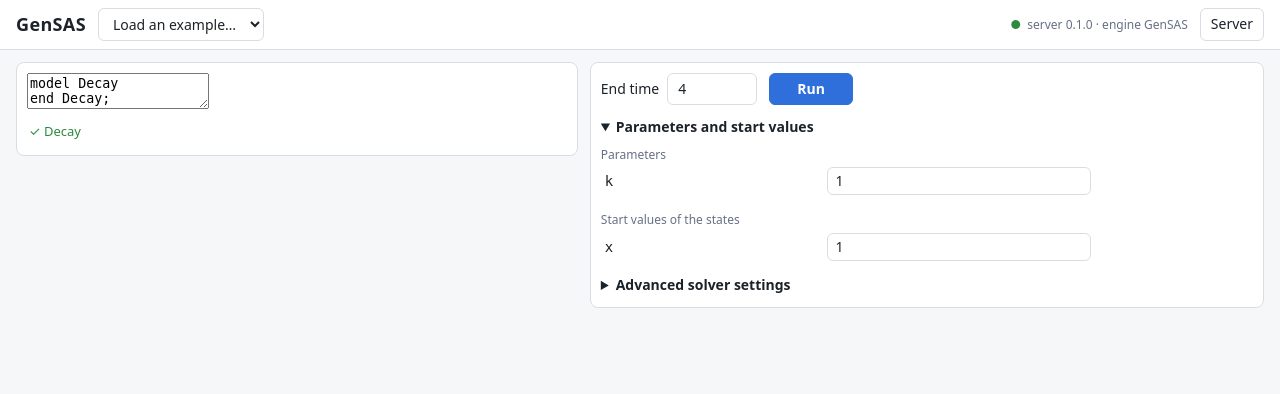
App › cancels a running run
Click the button "Run".
click(811, 89)  # box [769,73,853,105]
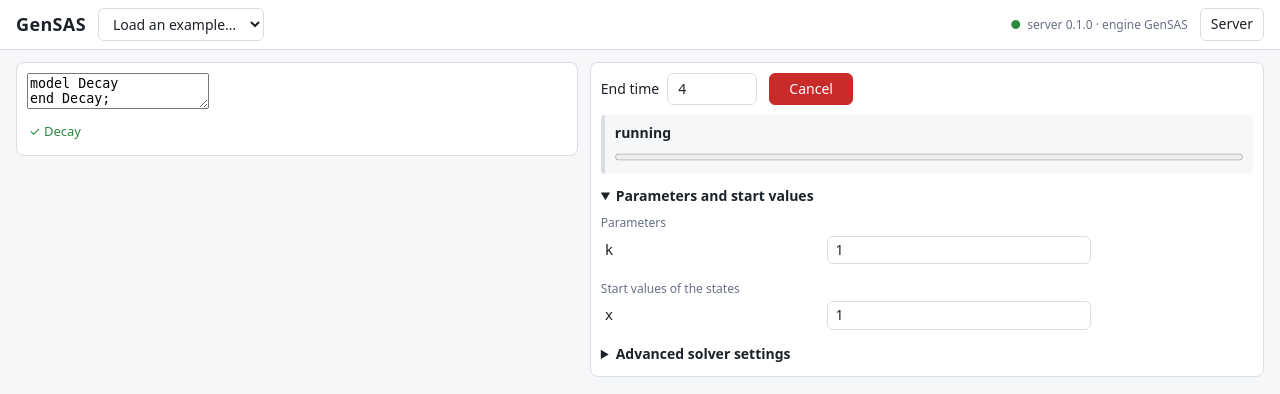
Click the button "Cancel".
click(811, 89)  # box [769,73,853,105]
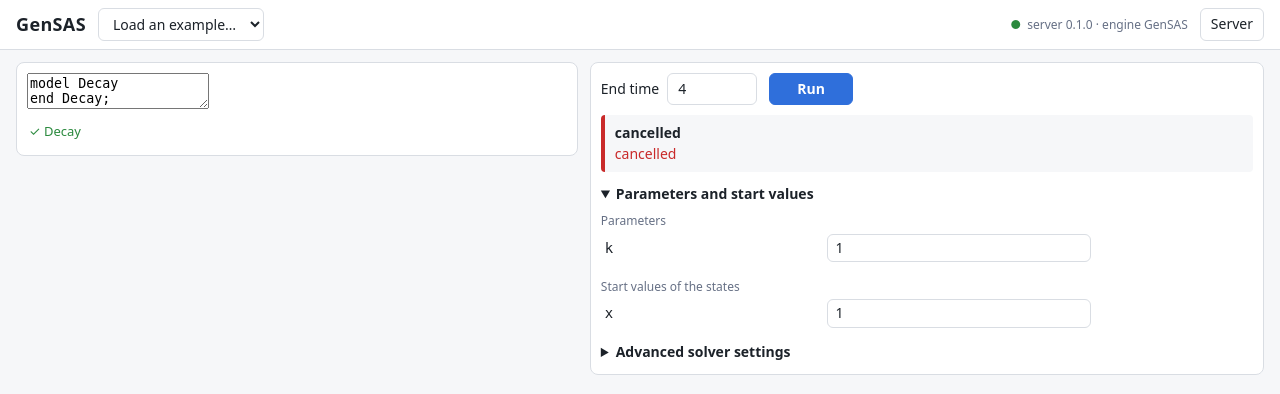
Check: the element with class "cancelled" is shown, box [601,115,1253,172]
